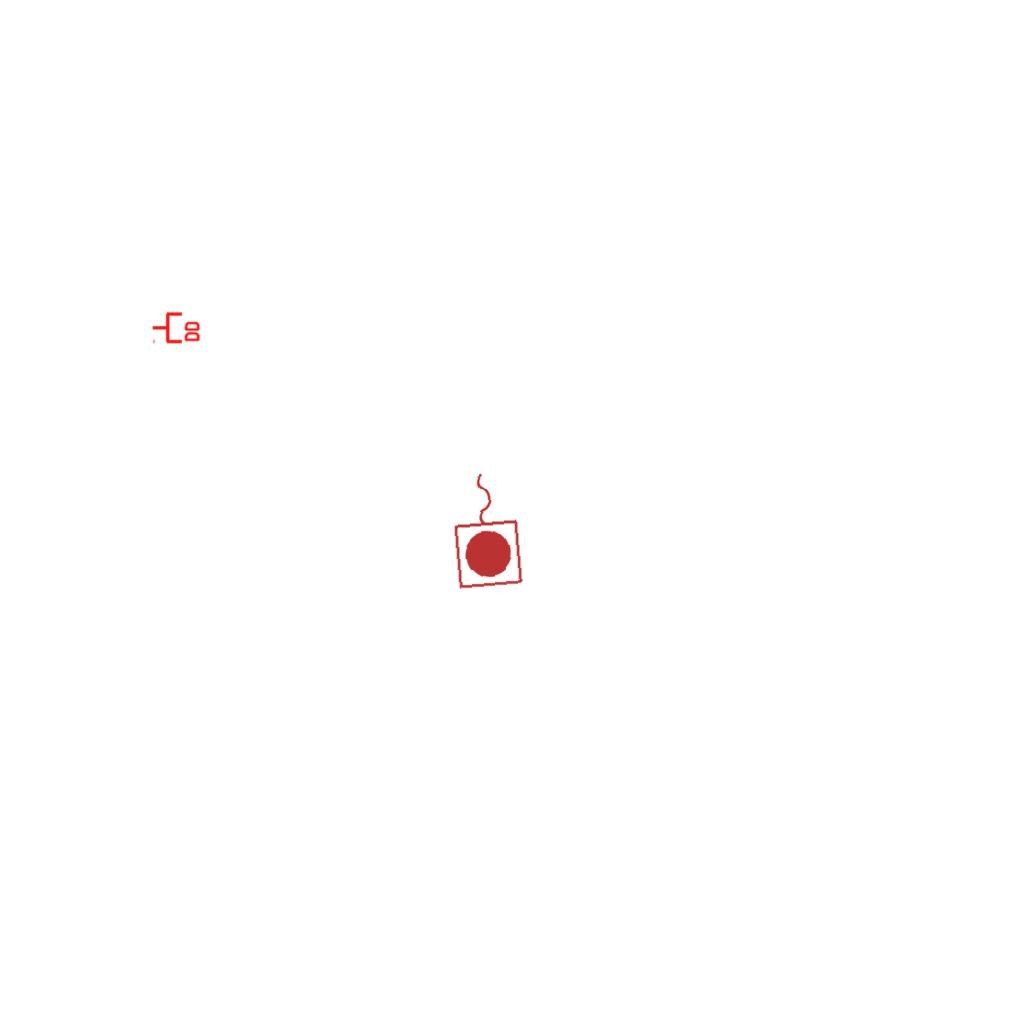Datenanschluss_zweifach: (151, 310, 202, 344)
Zugtaster: (445, 465, 529, 593)
